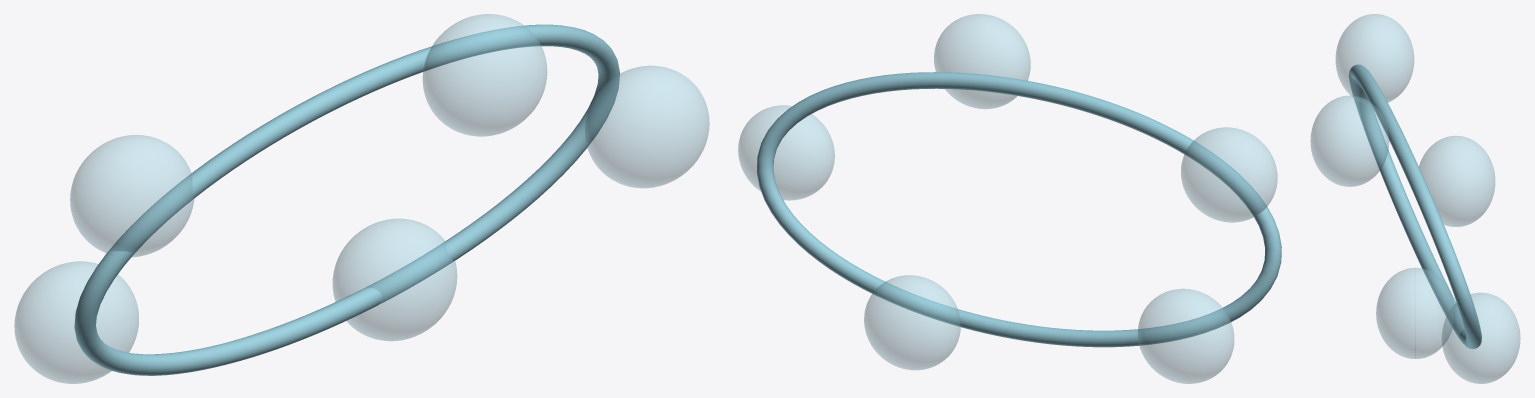
The picture shows the model from 3 angles, left to right: view 1: azimuth 30°, elevation 25°; view 2: azimuth 150°, elevation 25°; view 3: azimuth 270°, elevation 25°; orthographic projection. The views are drawn at different scales.
Visible parts, largest first — view 1: orbit-track, orbit-carrier-1, orbit-carrier-0, orbit-carrier-2, orbit-carrier-4, orbit-carrier-3; view 2: orbit-track, orbit-carrier-2, orbit-carrier-4, orbit-carrier-3, orbit-carrier-1, orbit-carrier-0; view 3: orbit-track, orbit-carrier-0, orbit-carrier-1, orbit-carrier-3, orbit-carrier-2, orbit-carrier-4.
Boxes of the visible parts, box(x1,y1,x2,y2) form: orbit-track: box(74, 24, 619, 375); orbit-carrier-1: box(423, 14, 546, 136); orbit-carrier-0: box(585, 66, 709, 187); orbit-carrier-2: box(70, 135, 193, 256); orbit-carrier-4: box(333, 219, 456, 340); orbit-carrier-3: box(14, 261, 138, 383); orbit-track: box(757, 72, 1281, 347); orbit-carrier-2: box(1181, 127, 1277, 222); orbit-carrier-4: box(864, 275, 960, 369); orbit-carrier-3: box(1138, 289, 1233, 383); orbit-carrier-1: box(934, 14, 1030, 108); orbit-carrier-0: box(738, 105, 834, 200); orbit-track: box(1349, 64, 1481, 349); orbit-carrier-0: box(1376, 267, 1454, 358); orbit-carrier-1: box(1310, 96, 1388, 186); orbit-carrier-3: box(1419, 136, 1494, 226); orbit-carrier-2: box(1336, 14, 1413, 104); orbit-carrier-4: box(1442, 293, 1520, 383).
Size of the model in its own units: 2.81 by 1.56 by 1.07.
